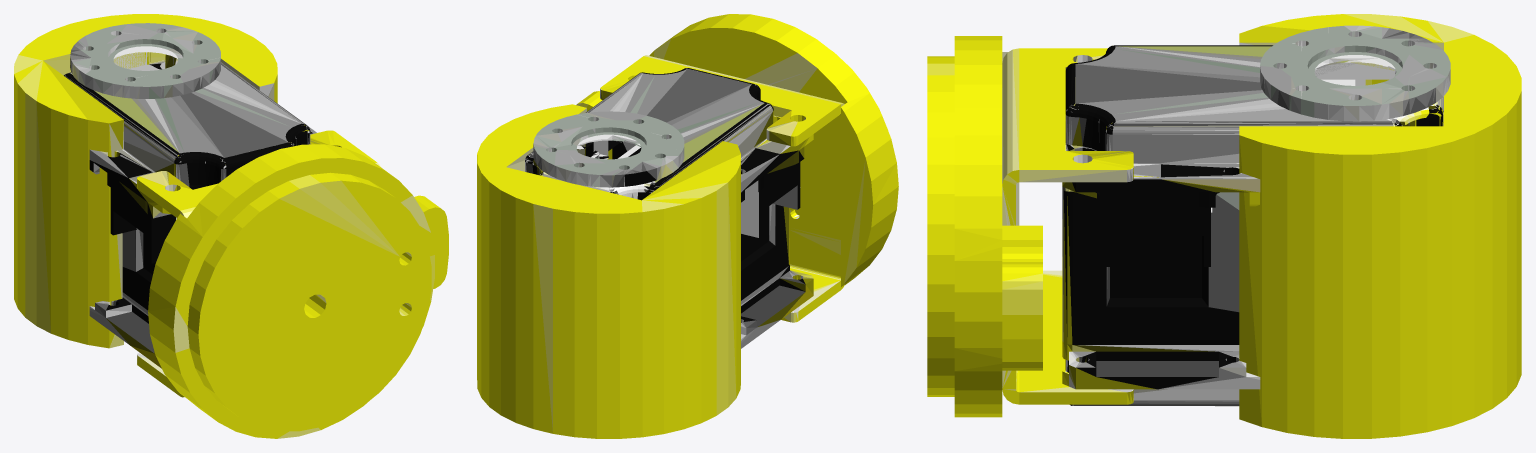
File: HansCuteLink1.dae
3 views of the same model, side by side, from view 1: azimuth 30°, elevation 25°; view 2: azimuth 150°, elevation 25°; view 3: azimuth 270°, elevation 25° (orthographic). The views are drawn at different scales.
Visible parts, largest first — view 1: HansCuteLink1; view 2: HansCuteLink1; view 3: HansCuteLink1.
Part boxes in pixels (x1,y1,x2,y2): HansCuteLink1: (14,14,448,438); HansCuteLink1: (477,14,898,438); HansCuteLink1: (927,14,1521,438).
Bounding box in the file's own units: 0.0629 × 0.0872 × 0.0564.
